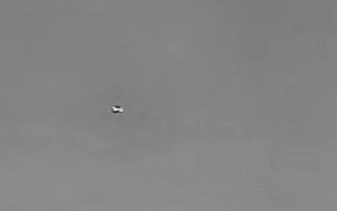Target: (113, 107, 123, 111)
